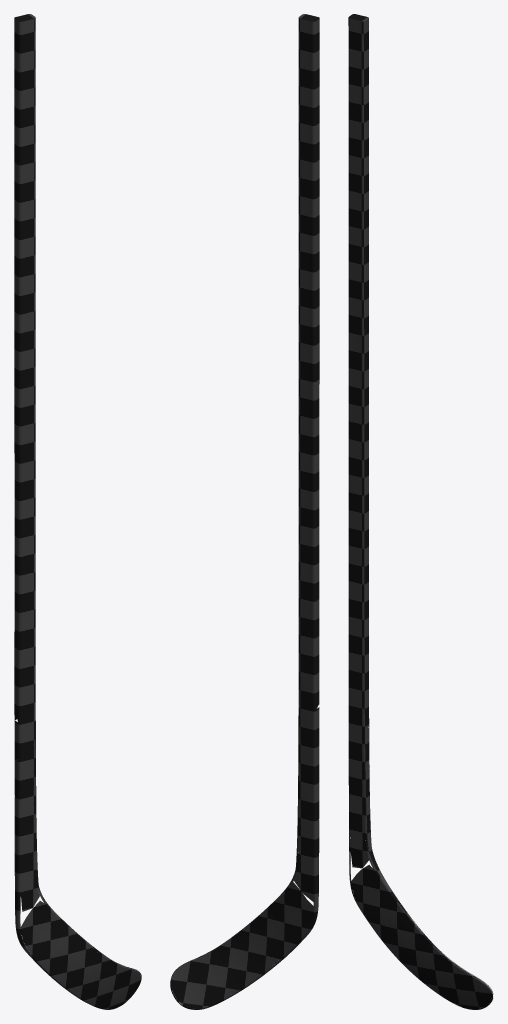
File: P29M-ST-LIE5_0.glb
The picture shows the model from 3 angles, left to right: view 1: azimuth 30°, elevation 25°; view 2: azimuth 150°, elevation 25°; view 3: azimuth 330°, elevation 25°; orthographic projection. The views are drawn at different scales.
Parts seen in each view (by area): view 1: geometry_0; view 2: geometry_0; view 3: geometry_0.
Boxes of the visible parts, x1,y1,x2,y2 form: geometry_0: (14,14,141,1009); geometry_0: (170,14,319,1009); geometry_0: (348,14,493,1009).
Bounding box in the file's own units: 232 × 1650 × 55.11.
1 material, 1 textured.
